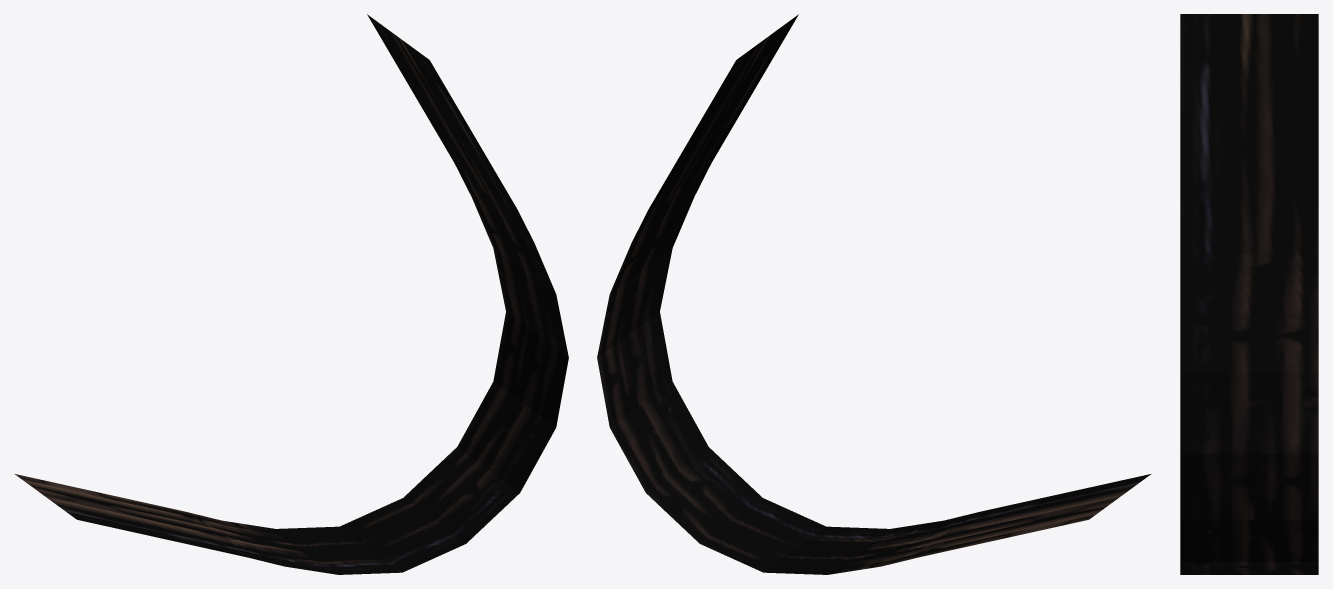
The model's file is collide_ColumnCorner3.obj.
The picture shows the model from 3 angles, left to right: view 1: azimuth 30°, elevation 25°; view 2: azimuth 150°, elevation 25°; view 3: azimuth 270°, elevation 25°; orthographic projection. The views are drawn at different scales.
Parts seen in each view (by area): view 1: collide_ColumnCorner3; view 2: collide_ColumnCorner3; view 3: collide_ColumnCorner3.
Part boxes in pixels (left/top/right/bottom): collide_ColumnCorner3: left=15, top=14, right=568, bottom=574; collide_ColumnCorner3: left=597, top=14, right=1150, bottom=574; collide_ColumnCorner3: left=1180, top=14, right=1318, bottom=574.
Bounding box in the file's own units: 201 × 198 × 44.53.
